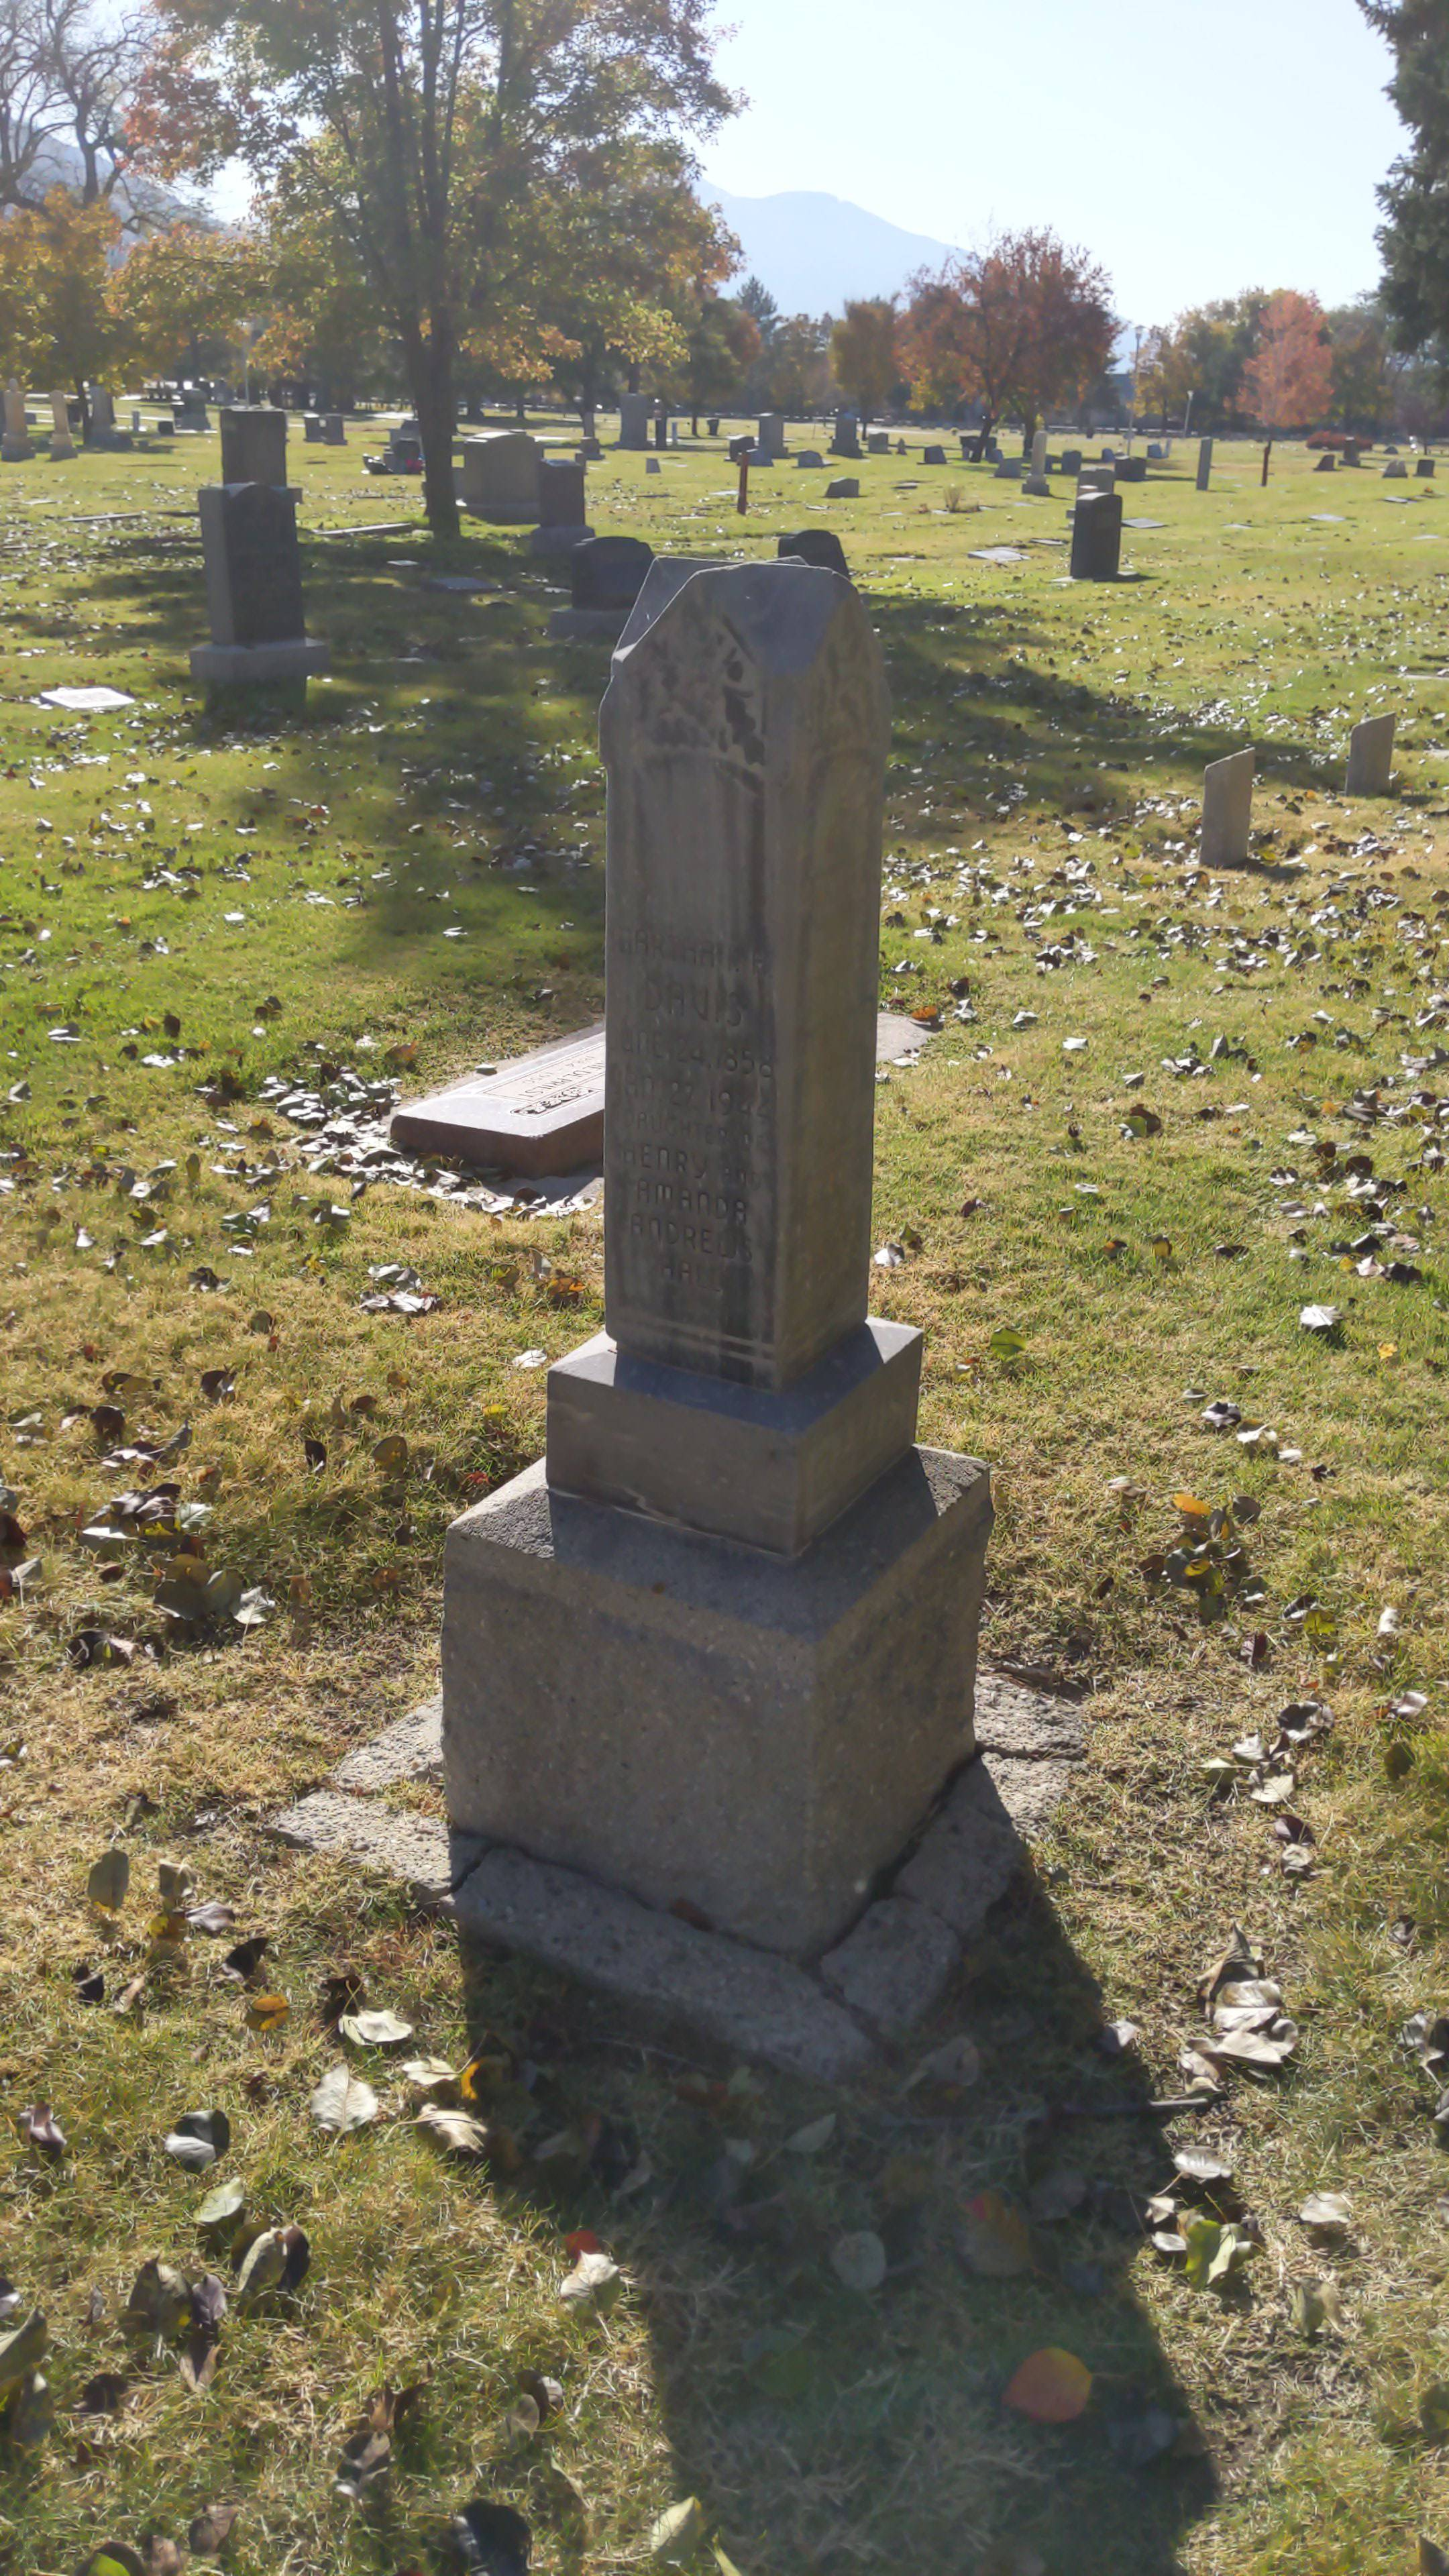obelisk: (545, 543, 918, 1548)
